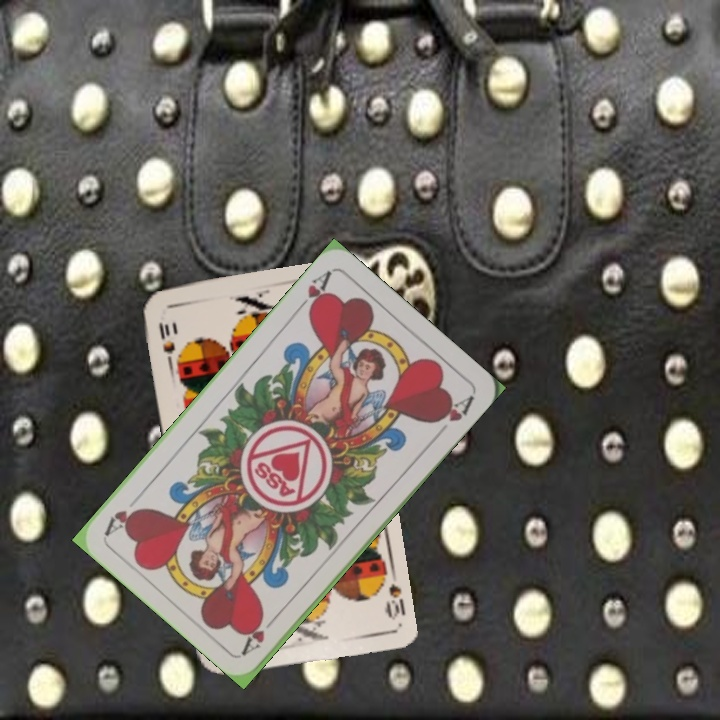HA: (238, 607, 283, 657), (291, 267, 334, 318)
S10: (381, 566, 408, 623), (154, 318, 178, 368)
